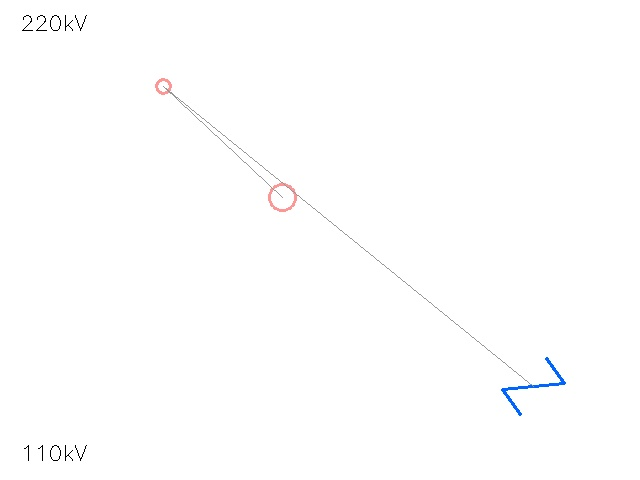circuit_breaker: (503, 356, 563, 416)
fuse: (255, 170, 309, 224)
load_break_switch: (148, 71, 178, 101)
